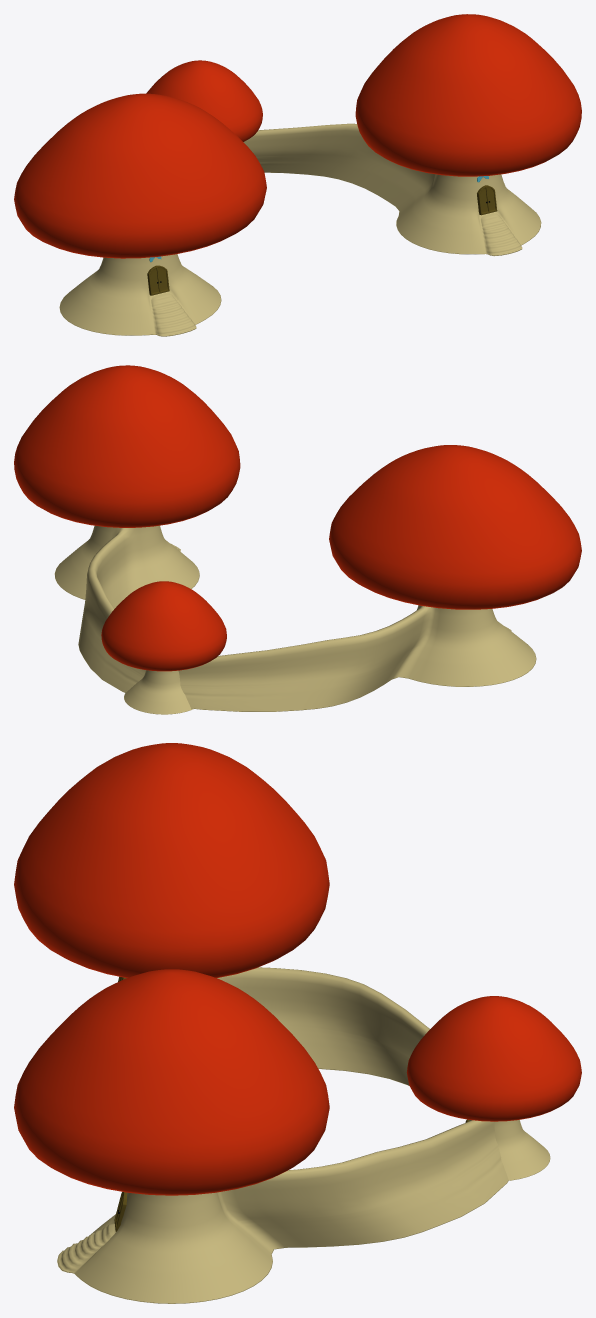
File: castle DONE.fbx
3 views of the same model, one above another, from view 1: azimuth 30°, elevation 25°; view 2: azimuth 150°, elevation 25°; view 3: azimuth 270°, elevation 25° (orthographic). The views are drawn at different scales.
Visible parts, largest first — view 1: polySurface9; view 2: polySurface9; view 3: polySurface9.
Boxes of the visible parts, x1,y1,x2,y2 form: polySurface9: (14, 14, 581, 336); polySurface9: (14, 365, 581, 714); polySurface9: (14, 743, 581, 1303).
Size of the model in its own units: 81 by 29.91 by 53.03.
